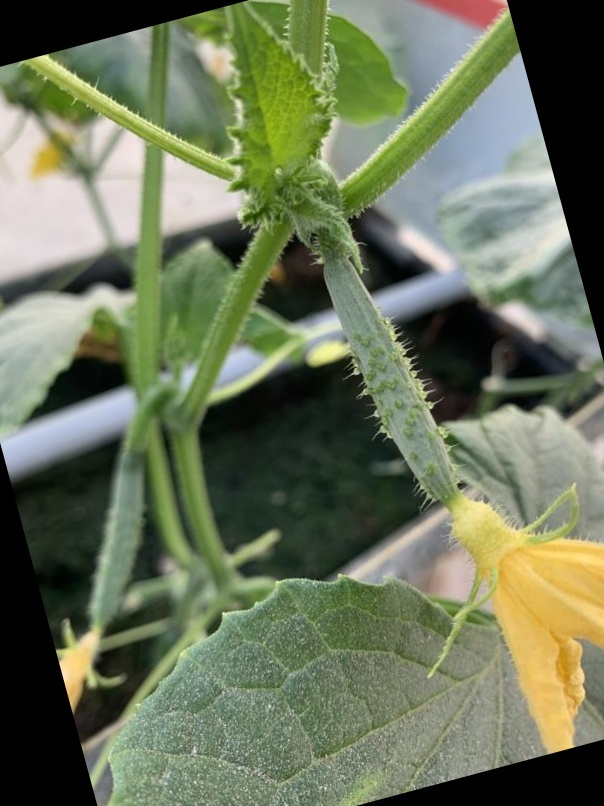bear: (302, 188, 596, 667)
